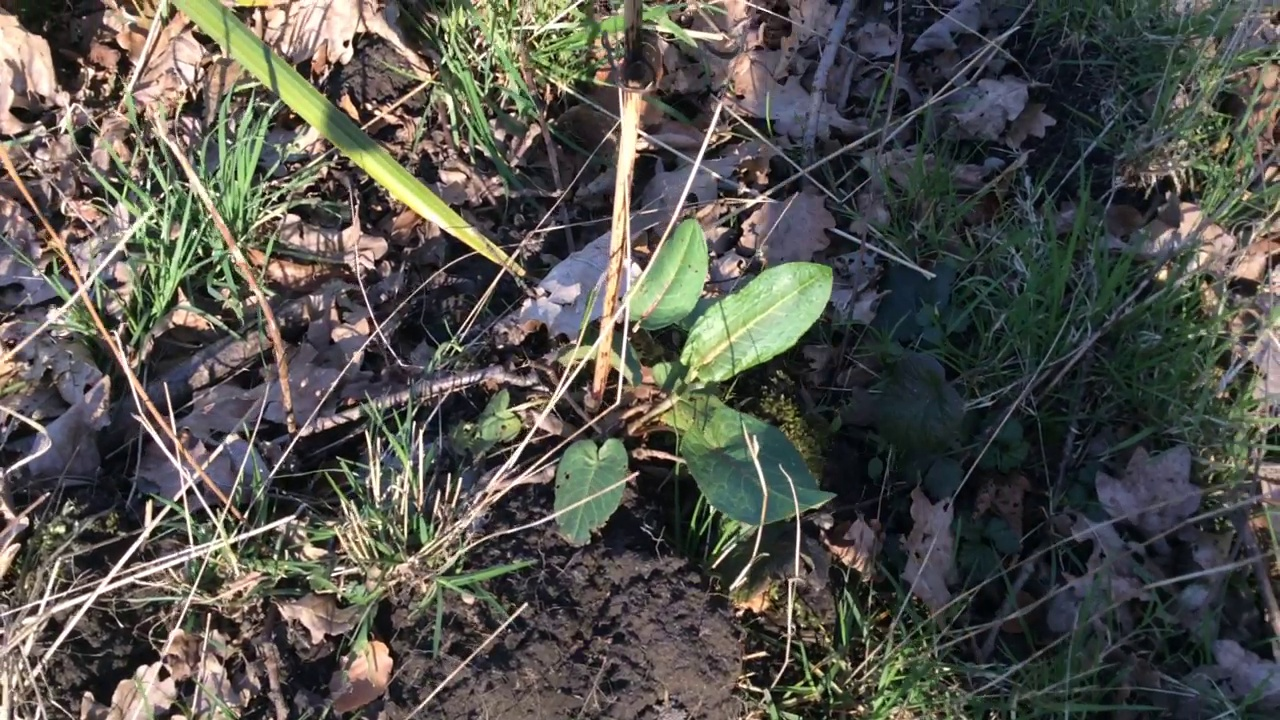rumex: (472, 218, 833, 547)
